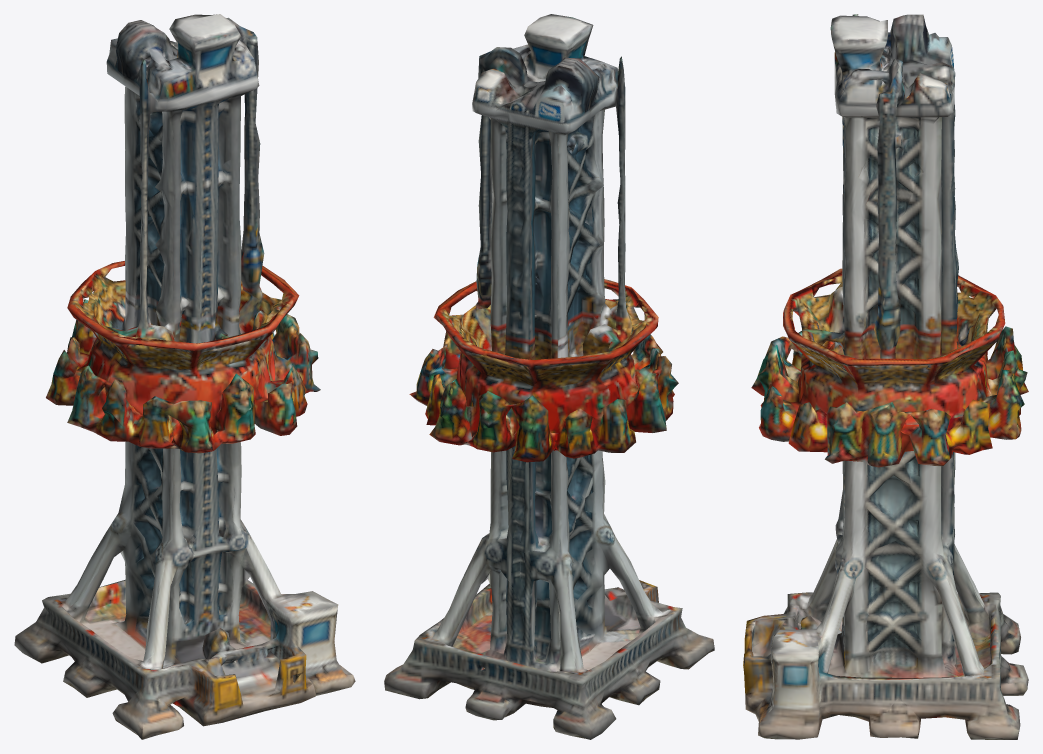
Rendered from 롯데_자이로드롭.glb.
3 views of the same model, side by side, from view 1: azimuth 30°, elevation 25°; view 2: azimuth 150°, elevation 25°; view 3: azimuth 270°, elevation 25° (orthographic). The views are drawn at different scales.
Parts seen in each view (by area): view 1: texture_mapping; view 2: texture_mapping; view 3: texture_mapping.
Part boxes in pixels (x1,y1,x2,y2): texture_mapping: (14,14,355,739); texture_mapping: (384,14,714,739); texture_mapping: (743,14,1028,739).
Bounding box in the file's own units: 0.3807 × 1 × 0.3903.
1 material, 1 textured.
